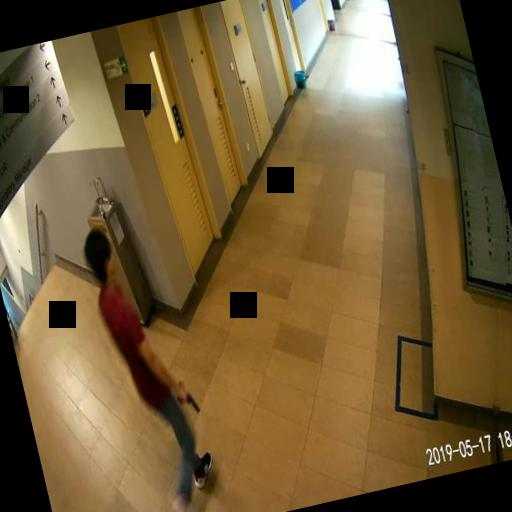Handgun: (172, 378, 198, 415)
